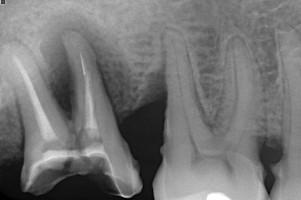Dental Caries: (38, 12, 134, 125)
Endo-Periodontal Lesion: (51, 64, 74, 121)
